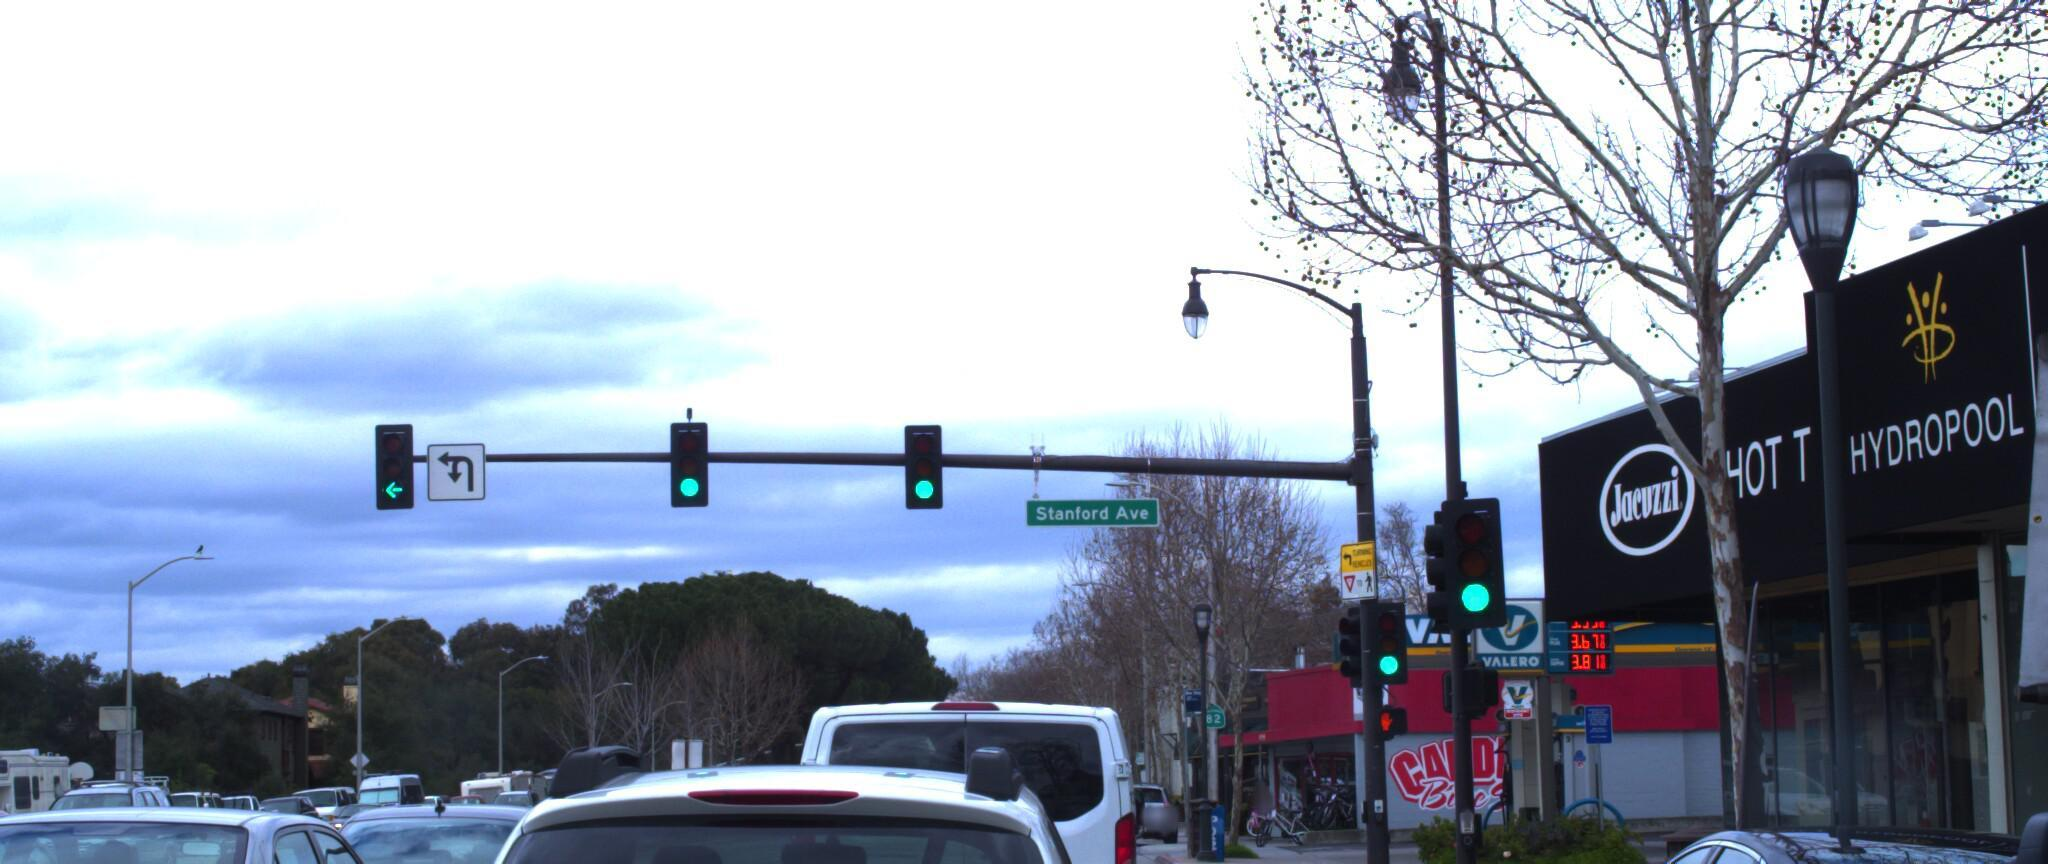car: (1802, 0, 2048, 864), (310, 696, 1206, 864), (790, 671, 1161, 864), (1482, 800, 2048, 864), (185, 784, 637, 864), (0, 794, 504, 864), (0, 767, 142, 864), (1121, 777, 1199, 844)
other_vehicle: (0, 732, 104, 864)
